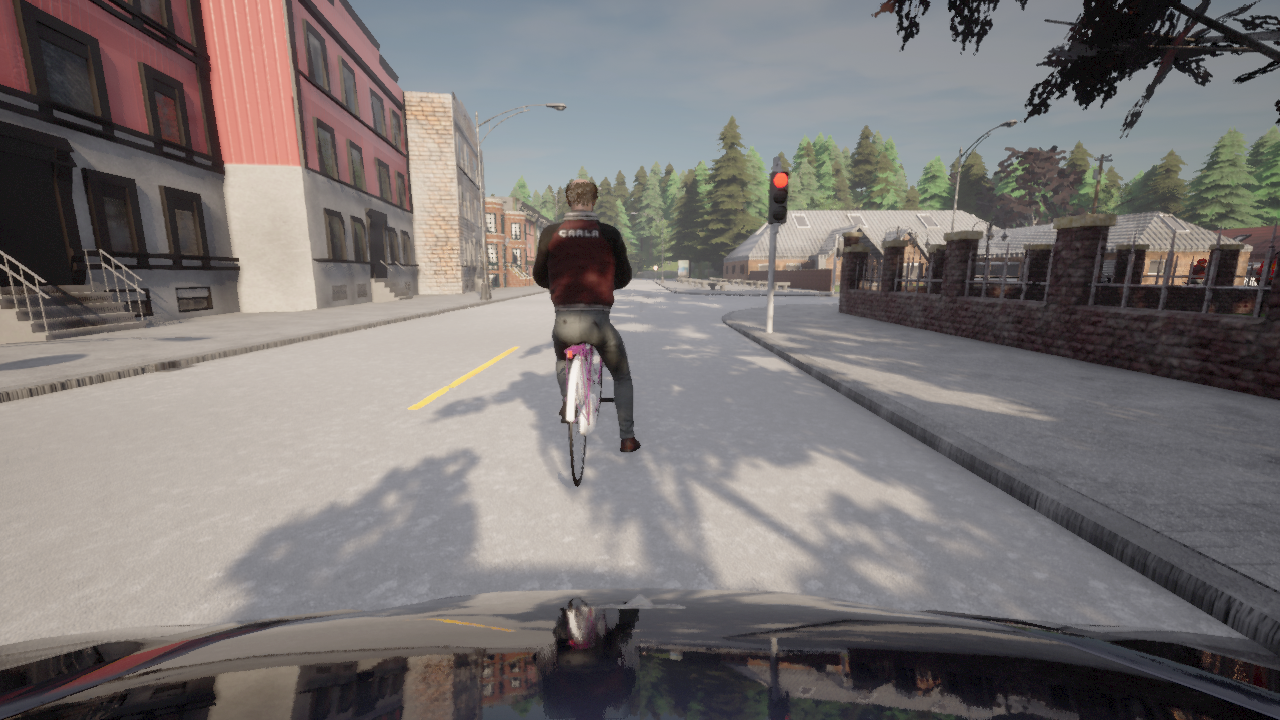cyclist: (0, 588, 1279, 719), (560, 343, 613, 486), (1100, 273, 1112, 283), (1193, 284, 1195, 285)
pedestrian: (1254, 251, 1278, 285), (922, 277, 923, 278)
